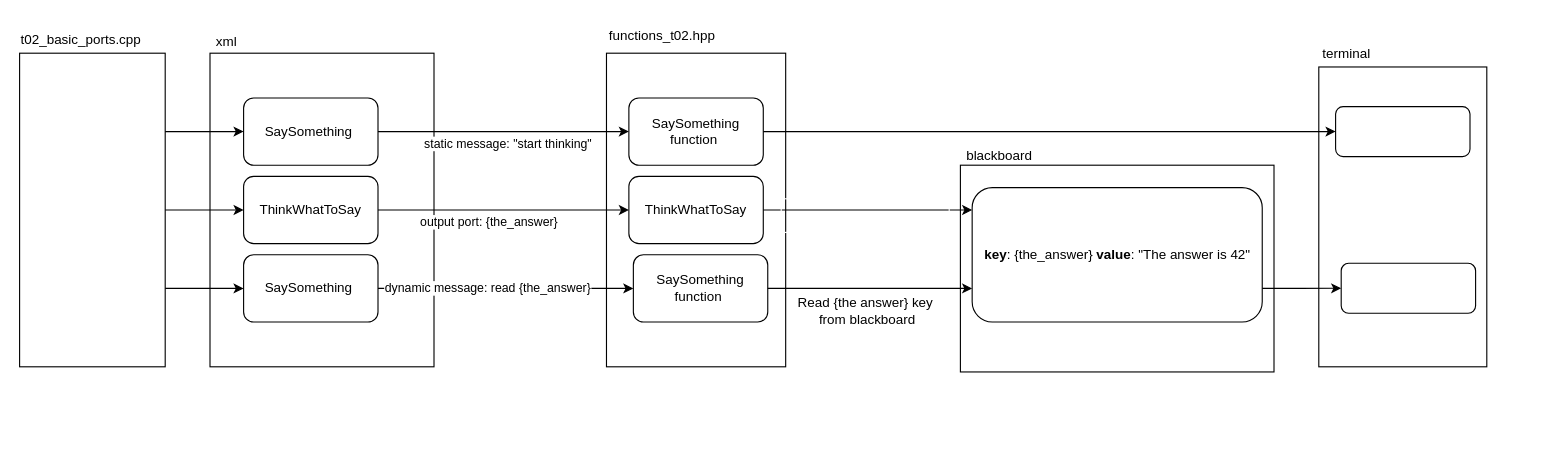
Image size: 1562x475. Some labels were removed from this diagram. The shapes that lost their labels are listed below. From the top down, each one's box as (x1, y1, x2, y2) in pixels, then its label:
(1334, 106, 1470, 157): RoBots says: start thinking
(18, 52, 165, 367): tree.tickRoot()
(780, 198, 949, 232): Set {the answer} key to "The answer is 42" value
(1340, 262, 1476, 313): RoBots says: The answer is 42
